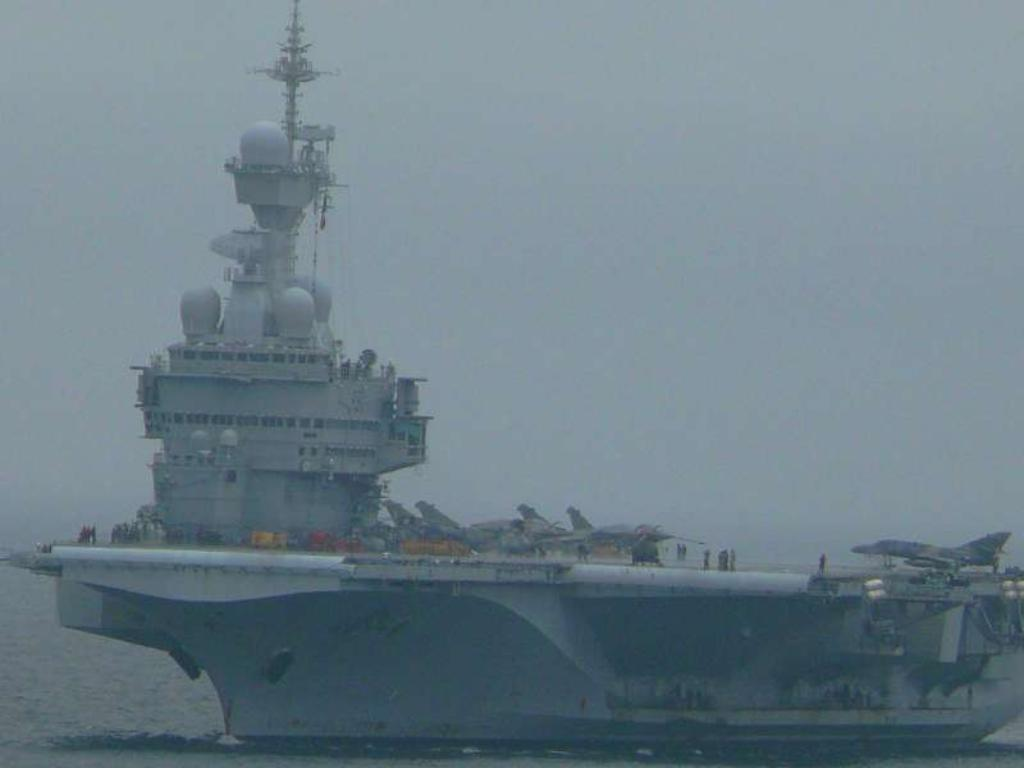Warship: (14, 2, 1018, 754)
